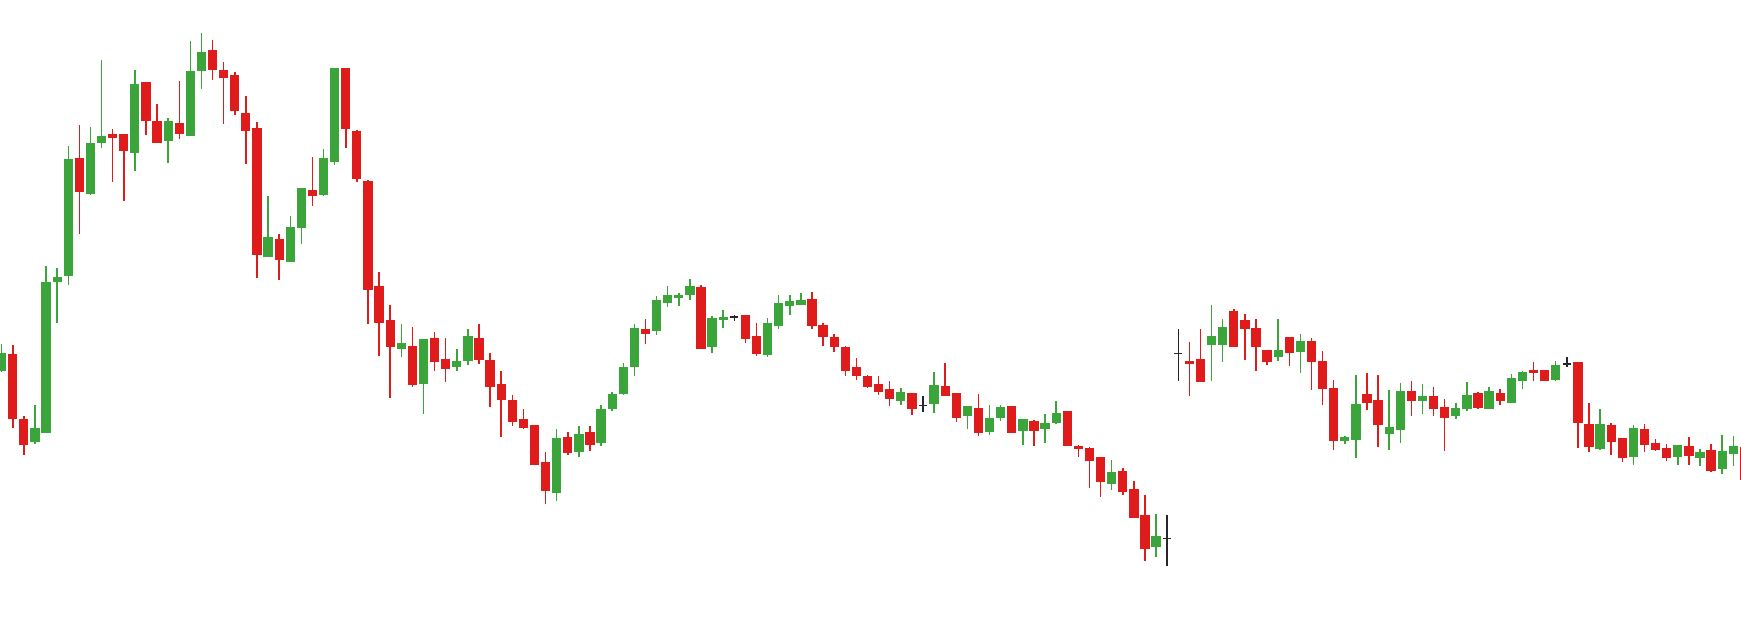sell: (93, 33, 219, 132)
